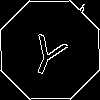Y: (25, 25, 73, 80)
